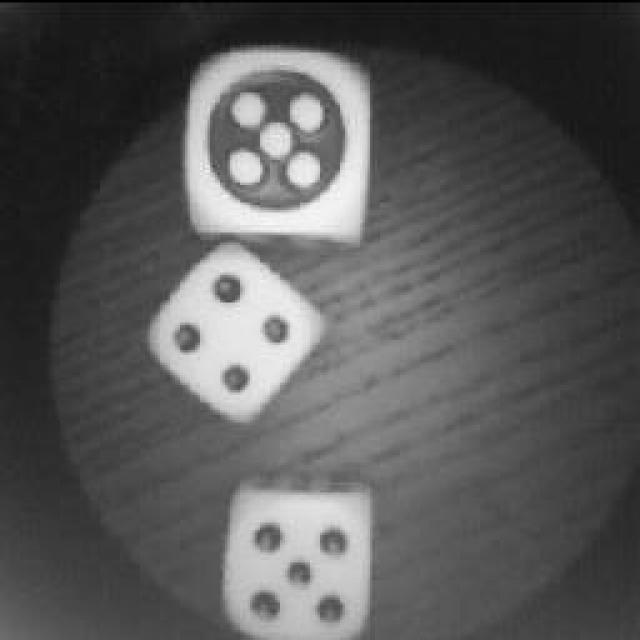dice_4: (150, 245, 330, 407)
dice_5: (183, 42, 375, 250), (220, 477, 380, 640)
